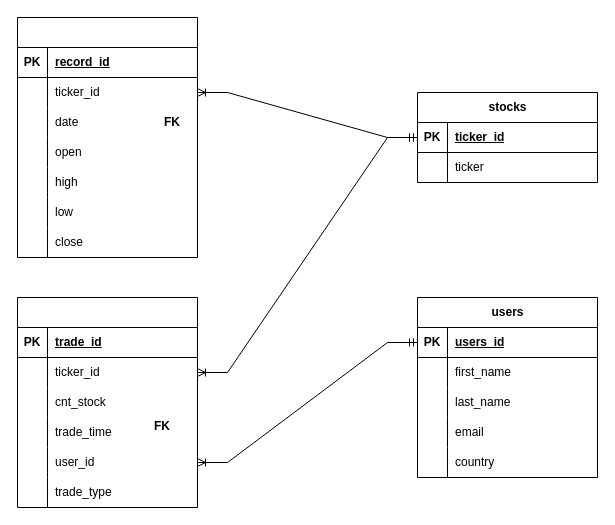
This 615x525 diagram has some shape labels left out. The box of each missing label's shape, as (x1, y1, x2, y2) in pixels:
stocks_daily: (16, 16, 198, 258)
trade_execution: (16, 296, 198, 508)
